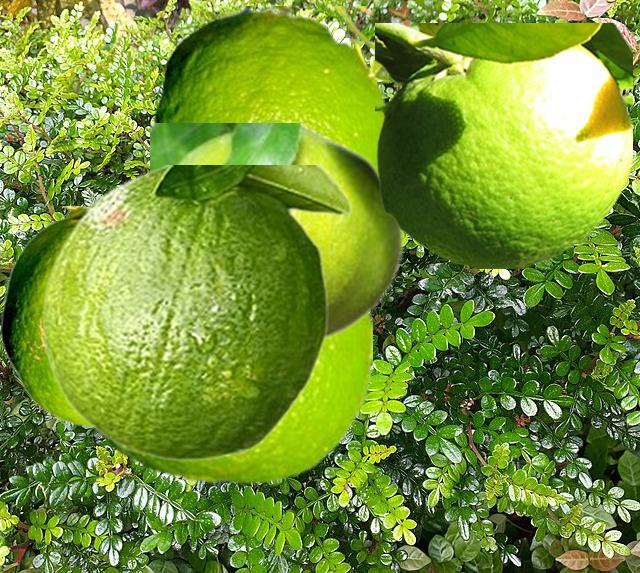dalandan: (41, 165, 352, 460), (375, 23, 631, 267), (150, 123, 404, 339), (92, 314, 371, 483), (153, 6, 387, 163), (0, 206, 89, 427)
